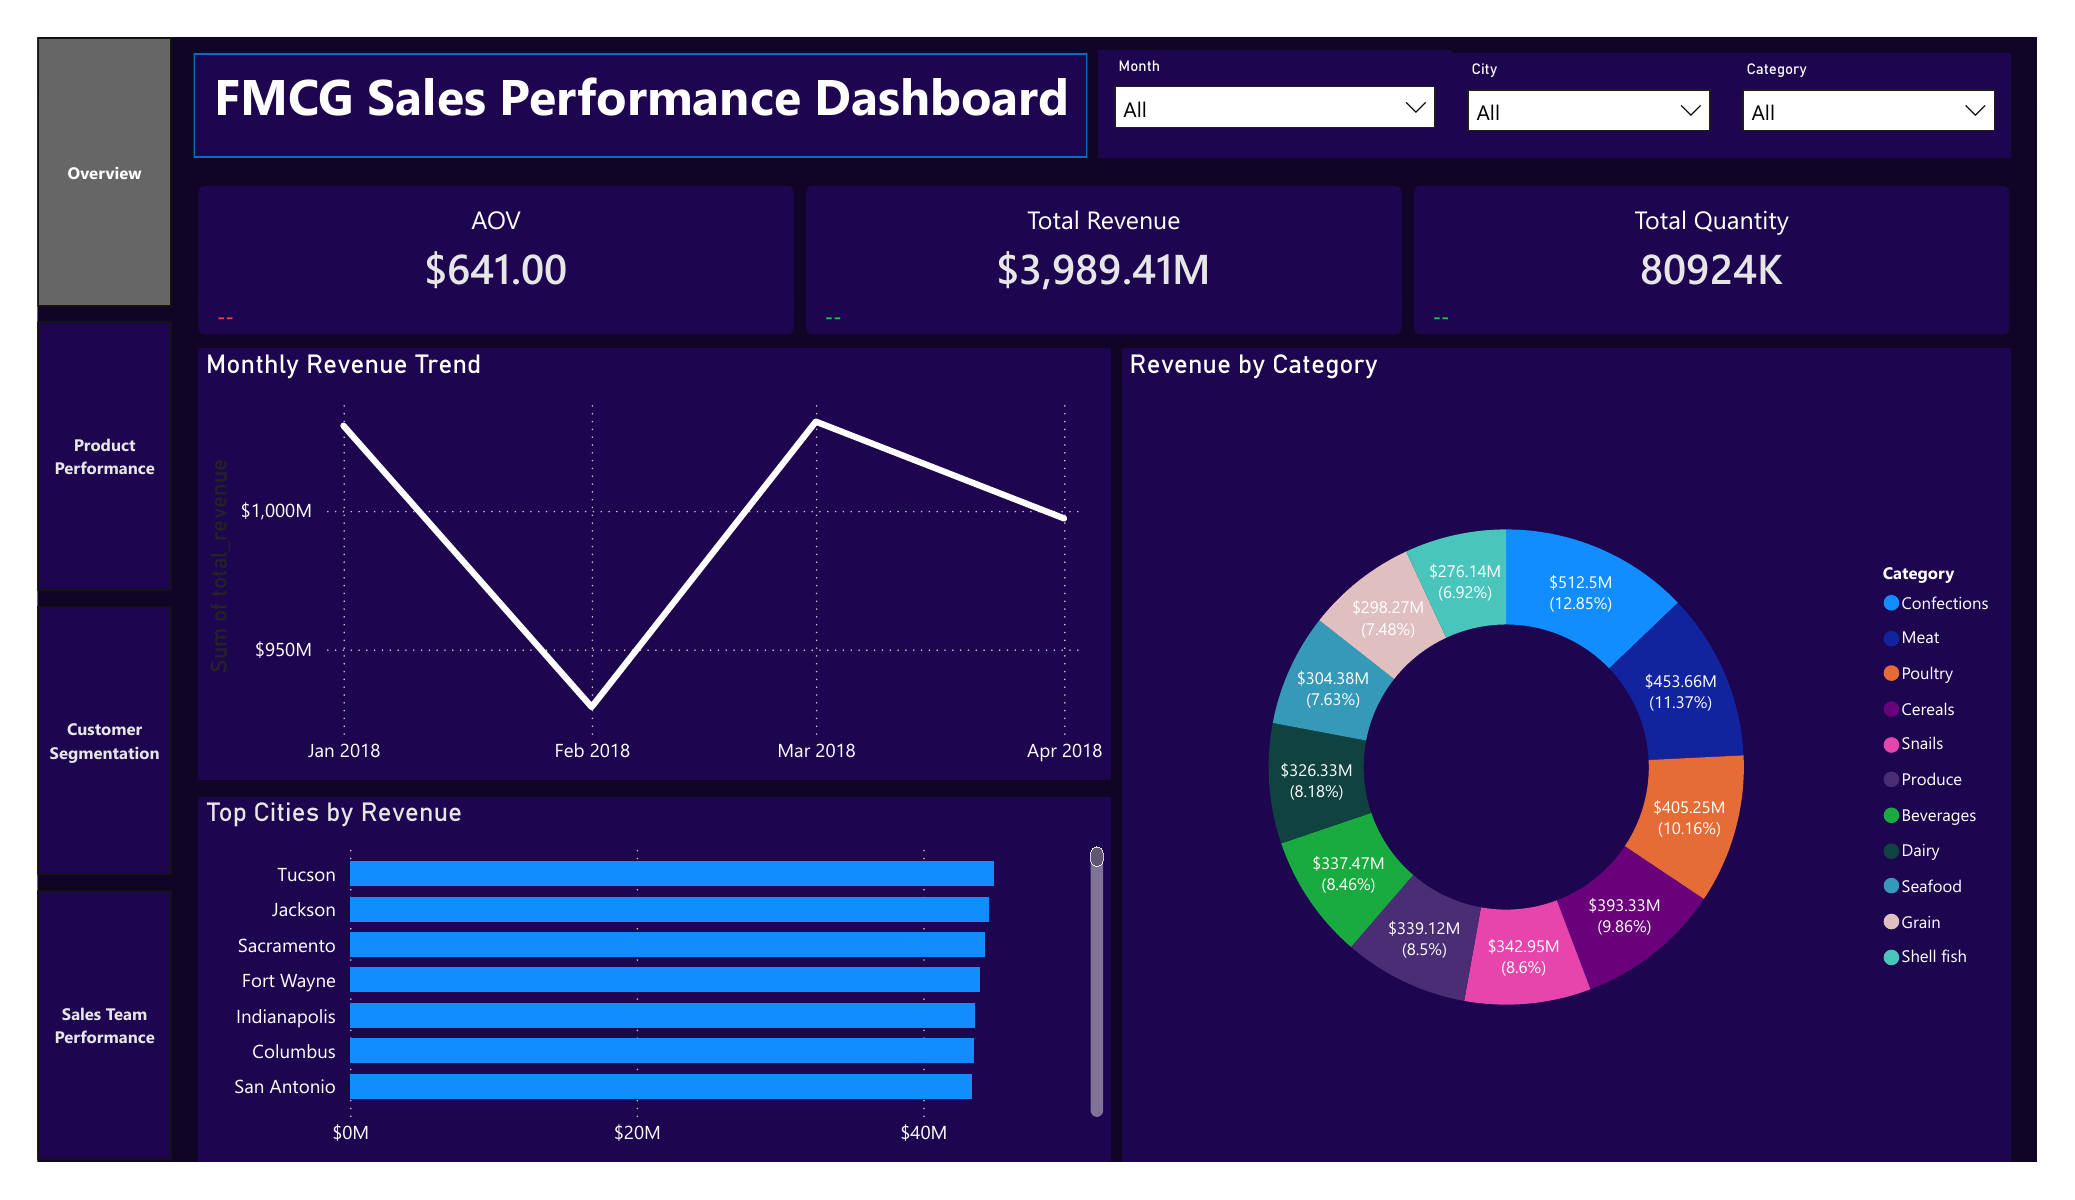

This screenshot's page, from the dashboard's own definition file:
{"tool":"powerbi","page":{"name":"Overview","canvas":[1280,720],"ordinal":0},"visuals":[{"type":"group","id":"g1","title":"Group 1","box":[678.8,7.5,583.8,68.8],"z":0},{"type":"slicer","fields":{"Values":["Dim_Month.month"]},"box":[678.8,7.5,225.9,68.8],"z":0,"group":"g1"},{"type":"shape","box":[100,10,571.8,67.3],"z":0,"group":"g3"},{"type":"cardVisual","fields":{"Data":["fmcg vw_category_revenue_by_city_month.AOV","Sum(fmcg vw_category_revenue_by_city_month.total_revenue)","Sum(fmcg vw_category_revenue_by_city_month.total_quantity)"]},"box":[86.2,77.5,1193.9,114.9],"z":0,"group":"g2"},{"type":"slicer","fields":{"Values":["Dim_City.cityname"]},"box":[905,9.7,175.5,66.4],"z":1000,"group":"g1"},{"type":"textbox","box":[102.5,10,568.8,67.5],"z":1000,"group":"g3"},{"type":"group","id":"g2","title":"Group 2","box":[86.2,77.5,1193.8,128.8],"z":1000},{"type":"pageNavigator","box":[0,0,86.2,720],"z":2000},{"type":"slicer","fields":{"Values":["Dim_Category.categoryname"]},"box":[1080.5,9.7,182,66.4],"z":2000,"group":"g1"},{"type":"cardVisual","fields":{"Data":["fmcg vw_category_revenue_by_city_month.AOV Change Text","fmcg vw_category_revenue_by_city_month.Revenue Change Text","fmcg vw_category_revenue_by_city_month.Quantity Change Text"]},"box":[86.5,147.7,1193.3,59.1],"z":2000,"group":"g2"},{"type":"lineChart","title":"Monthly Revenue Trend","fields":{"Category":["fmcg vw_category_revenue_by_city_month.month"],"Y":["Sum(fmcg vw_category_revenue_by_city_month.total_revenue)"]},"box":[102.7,199.1,584.5,276.4],"z":3000},{"type":"donutChart","title":"Revenue by Category","fields":{"Category":["fmcg vw_category_revenue_by_city_month.categoryname"],"Y":["Sum(fmcg vw_category_revenue_by_city_month.total_revenue)"]},"box":[693.8,198.8,568.8,521.2],"z":4000},{"type":"clusteredBarChart","title":"Top Cities by Revenue","fields":{"Category":["fmcg vw_category_revenue_by_city_month.cityname"],"Y":["Sum(fmcg vw_category_revenue_by_city_month.total_revenue)"]},"box":[102.7,486.4,584.5,233.6],"z":5000},{"type":"group","id":"g3","title":"Group 3","box":[100,10,571.8,67.5],"z":6000}]}

Visuals, with their boxes on the page's 1280x720 design canvas (x1, y1, x2, y2). These are canvas units, not pixel positions in the 2075x1200 screenshot, which may show the page scaled, cropped or inside an application window:
"Group 1" group: {"left": 679, "top": 8, "right": 1263, "bottom": 76}
slicer - Dim_Month.month: {"left": 679, "top": 8, "right": 905, "bottom": 76}
shape: {"left": 100, "top": 10, "right": 672, "bottom": 77}
cardVisual - fmcg vw_category_revenue_by_city_month.AOV x Sum(fmcg vw_category_revenue_by_city_month.total_revenue): {"left": 86, "top": 78, "right": 1280, "bottom": 192}
slicer - Dim_City.cityname: {"left": 905, "top": 10, "right": 1080, "bottom": 76}
textbox: {"left": 102, "top": 10, "right": 671, "bottom": 78}
"Group 2" group: {"left": 86, "top": 78, "right": 1280, "bottom": 206}
pageNavigator: {"left": 0, "top": 0, "right": 86, "bottom": 720}
slicer - Dim_Category.categoryname: {"left": 1080, "top": 10, "right": 1262, "bottom": 76}
cardVisual - fmcg vw_category_revenue_by_city_month.AOV Change Text x fmcg vw_category_revenue_by_city_month.Revenue Change Text: {"left": 86, "top": 148, "right": 1280, "bottom": 207}
"Monthly Revenue Trend" lineChart: {"left": 103, "top": 199, "right": 687, "bottom": 476}
"Revenue by Category" donutChart: {"left": 694, "top": 199, "right": 1263, "bottom": 720}
"Top Cities by Revenue" clusteredBarChart: {"left": 103, "top": 486, "right": 687, "bottom": 720}
"Group 3" group: {"left": 100, "top": 10, "right": 672, "bottom": 78}
